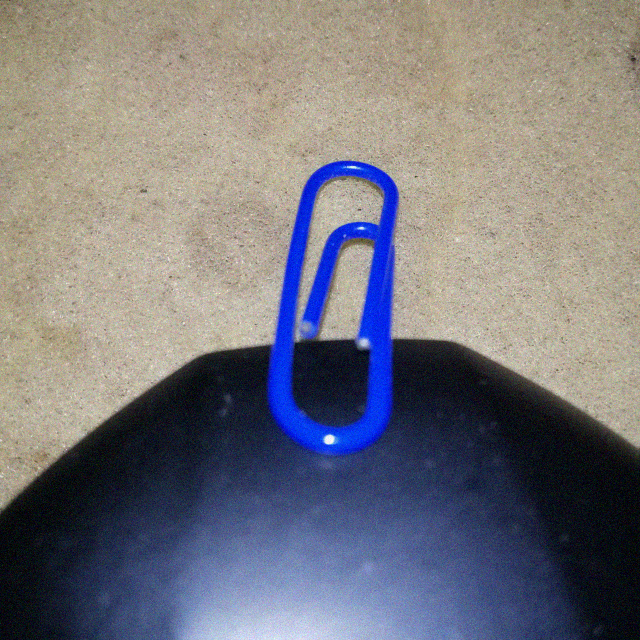pin: (271, 152, 399, 450)
